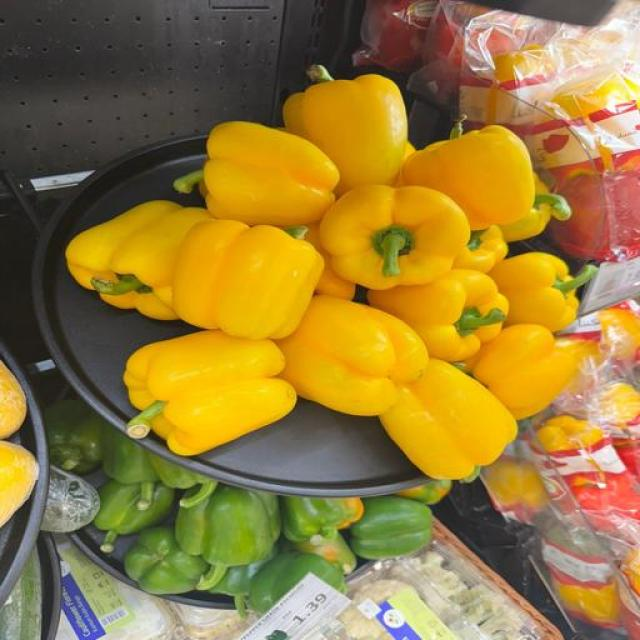organic: (87, 408, 444, 614), (420, 253, 577, 474), (165, 209, 321, 338), (67, 200, 206, 319), (382, 358, 514, 477), (368, 250, 507, 361), (320, 189, 469, 289), (402, 127, 534, 229), (212, 534, 356, 617), (175, 485, 279, 589), (490, 252, 597, 332), (177, 485, 279, 564), (197, 485, 279, 566), (203, 487, 281, 566), (249, 552, 346, 613), (93, 480, 173, 553), (124, 528, 207, 594), (499, 172, 572, 243), (350, 497, 432, 559), (44, 400, 111, 473), (103, 428, 158, 509), (147, 452, 217, 507), (0, 550, 43, 639), (42, 467, 99, 532), (212, 557, 271, 618), (282, 497, 359, 542), (278, 533, 357, 574), (537, 510, 602, 557), (103, 429, 158, 483), (290, 534, 357, 573), (147, 452, 217, 489), (455, 225, 507, 272), (210, 557, 271, 596), (372, 225, 414, 276), (210, 560, 267, 597), (147, 452, 197, 488), (175, 500, 208, 554), (454, 307, 506, 337), (127, 400, 166, 438), (398, 479, 452, 504), (553, 265, 598, 294), (258, 492, 282, 544), (90, 274, 152, 294), (607, 474, 638, 512), (534, 193, 572, 221), (198, 563, 228, 591), (422, 479, 452, 504), (173, 169, 203, 193), (307, 64, 334, 83), (449, 114, 467, 139), (467, 229, 487, 251), (274, 535, 296, 553), (460, 465, 481, 483), (284, 225, 308, 239), (517, 418, 533, 434), (265, 630, 289, 639), (452, 363, 469, 374)
